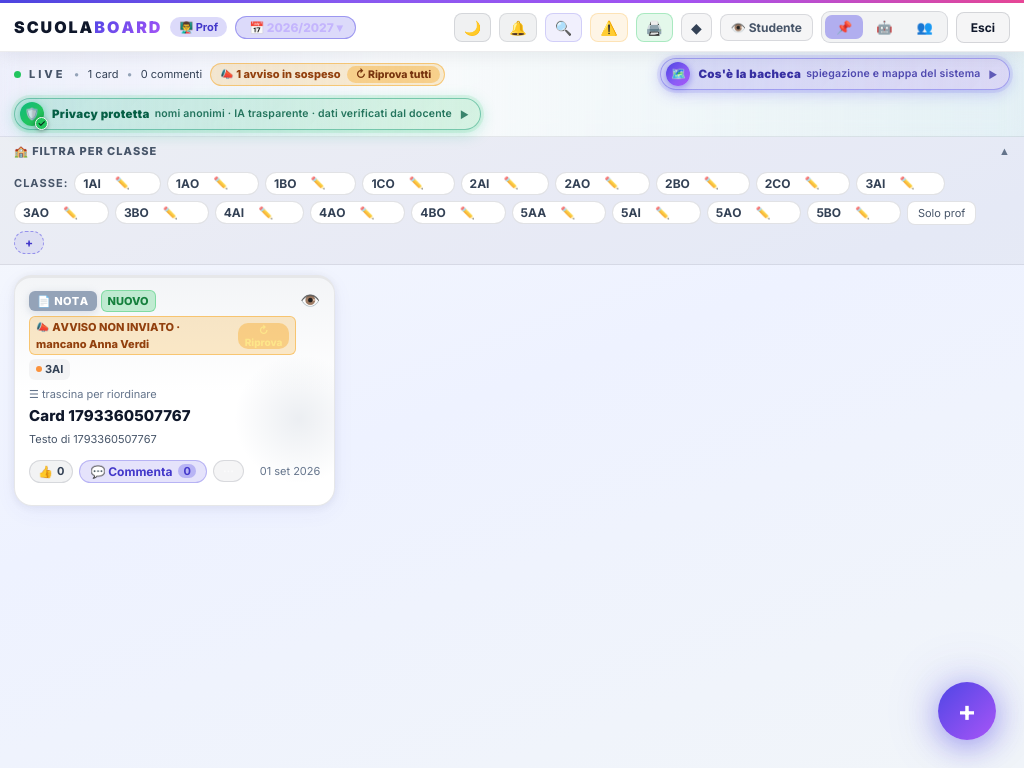
Test: avvisi di classe: badge persistente sulla card (annuncio non partito) › un invio interrotto dice sulla card CHI manca; "Riprova" avvisa solo quelli
Check: the text "📣 AVVISO NON INVIATO · mancano Anna Verdi ↻ Riprova" is shown, box [29,316,296,355]
Click the button with aria-label "Riprova avviso" at (264, 336), box [238,322,289,348]
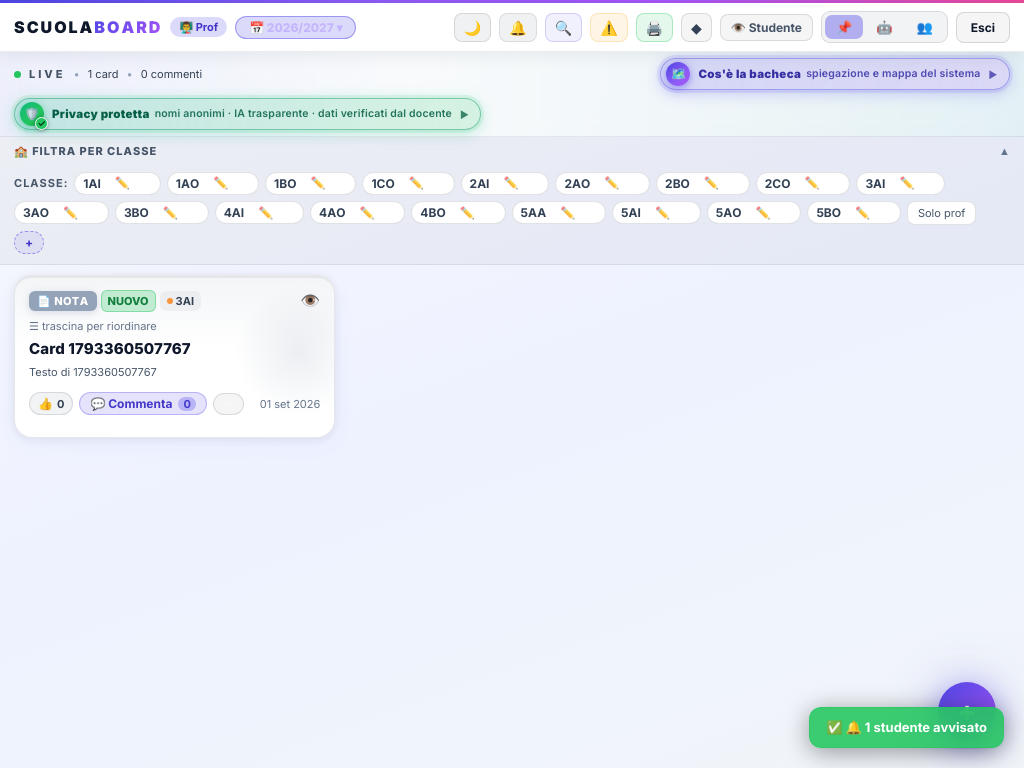
Check: the text "✅ 🔔 1 studente avvisato" is shown, box [809,706,1004,748]
Check: the text "mancano " is gone
